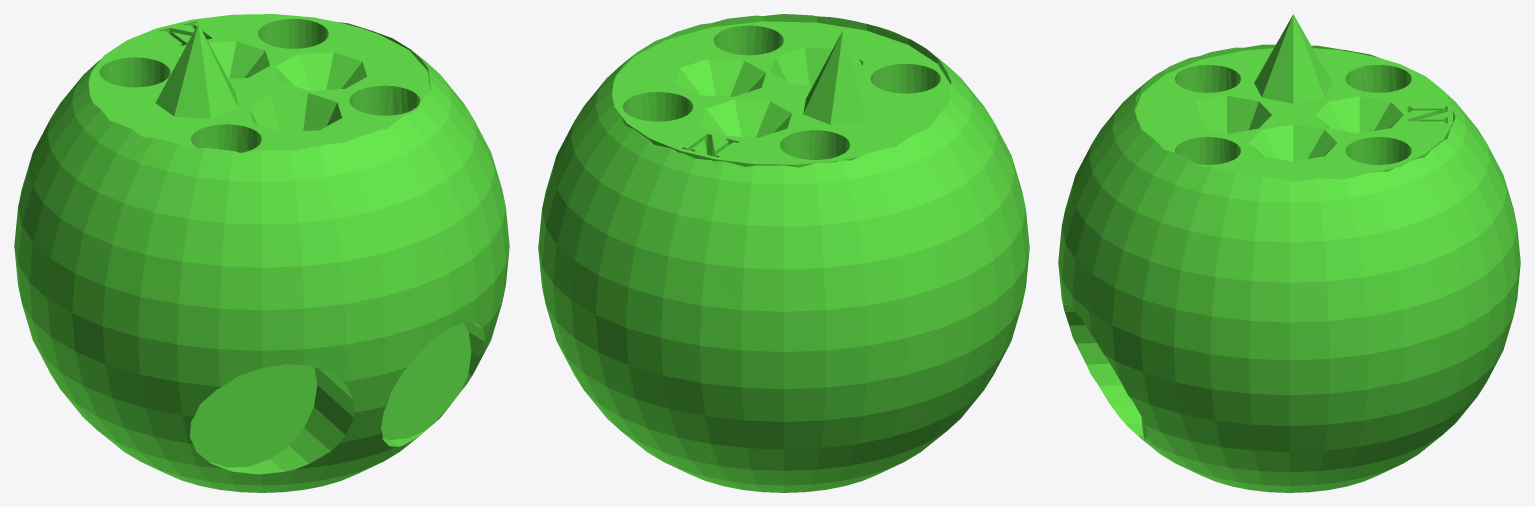
3 views of the same model, side by side, from view 1: azimuth 30°, elevation 25°; view 2: azimuth 150°, elevation 25°; view 3: azimuth 270°, elevation 25° (orthographic). The views are drawn at different scales.
Parts seen in each view (by area): view 1: Simple Self Assembly (2); view 2: Simple Self Assembly (2); view 3: Simple Self Assembly (2).
Part boxes in pixels (bbox=[...]): Simple Self Assembly (2): bbox=[14, 14, 509, 492]; Simple Self Assembly (2): bbox=[538, 14, 1029, 492]; Simple Self Assembly (2): bbox=[1058, 14, 1520, 492].
Bounding box in the file's own units: 23 × 23.6 × 23.
